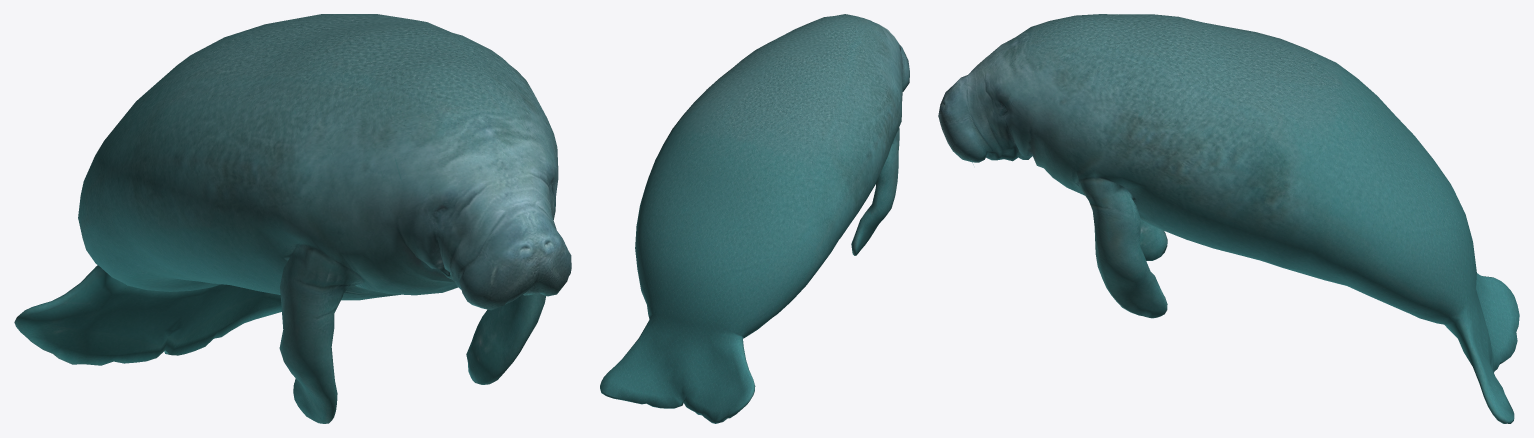
The model's file is peixeboi_correção.glb.
3 views of the same model, side by side, from view 1: azimuth 30°, elevation 25°; view 2: azimuth 150°, elevation 25°; view 3: azimuth 270°, elevation 25° (orthographic). The views are drawn at different scales.
Size of the model in its own units: 0.4722 by 0.6562 by 0.9561.
1 material, 1 textured.
